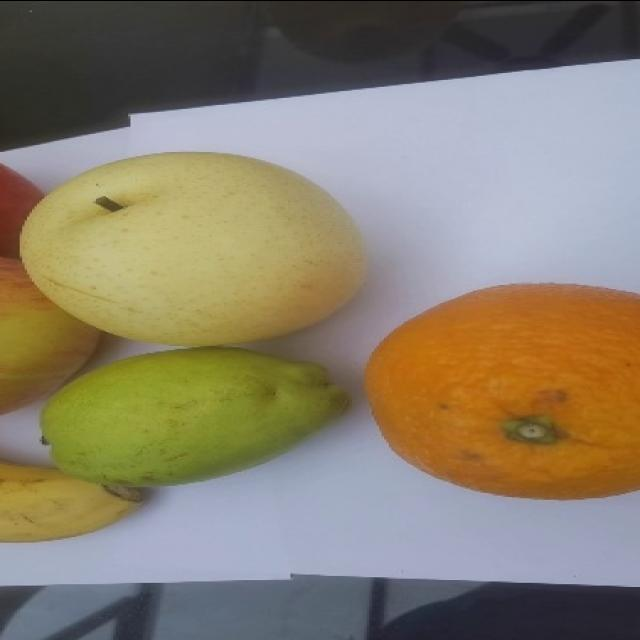Apple: (0, 256, 100, 414), (0, 161, 45, 259)
Banana: (0, 458, 142, 543)
Orange: (363, 281, 639, 500)
